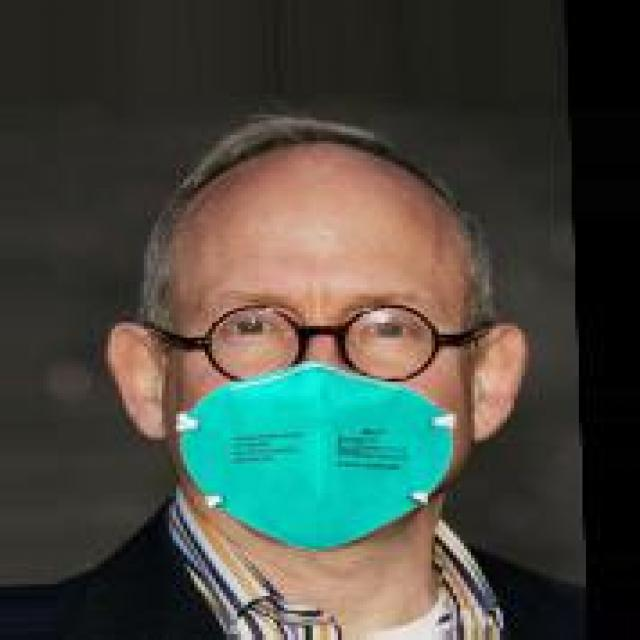mask: (97, 73, 554, 552)
